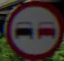No overtake: (3, 0, 61, 54)
